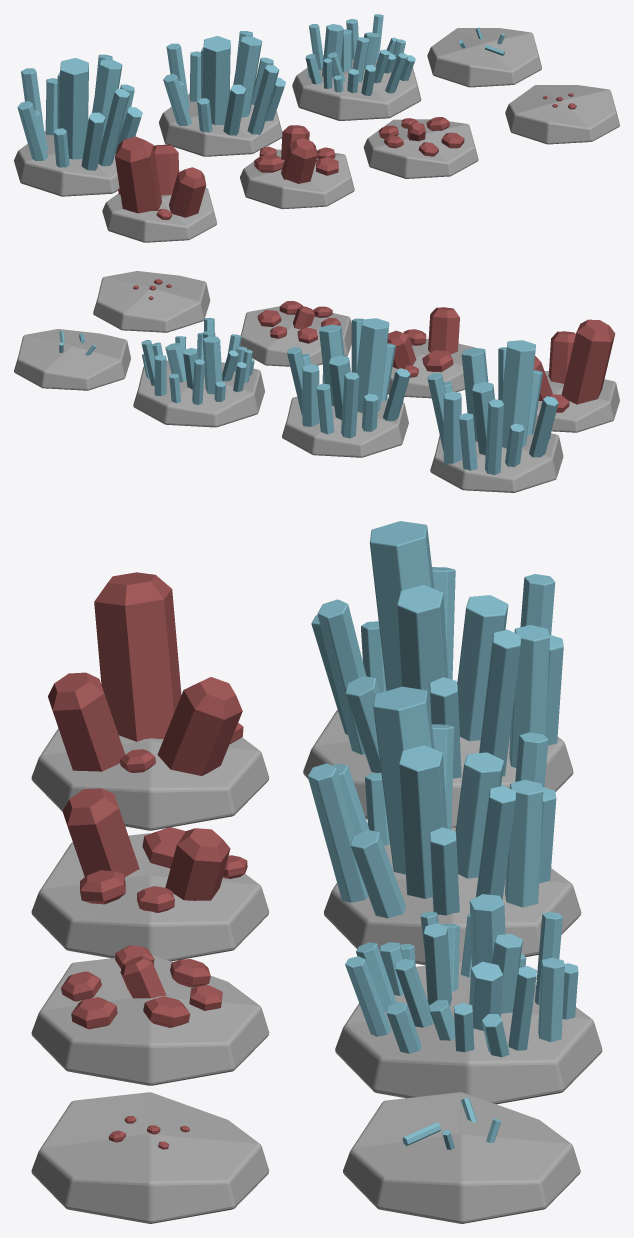
Rendered from Cristaux3.fbx.
The picture shows the model from 3 angles, top to bottom: view 1: azimuth 30°, elevation 25°; view 2: azimuth 150°, elevation 25°; view 3: azimuth 270°, elevation 25°; orthographic projection. The views are drawn at different scales.
Parts seen in each view (by area): view 1: pasted__pCylinder6, pasted__pasted__pCylinder60, polySurface14 (×2), pCylinder54, pasted__pasted__pCylinder61, pCylinder41, pCylinder55, pCylinder56, pCylinder50, pCylinder3, polySurface13 (×2), polySurface10 (×2) (+21 smaller); view 2: pasted__pCylinder6, pasted__pasted__pCylinder60, polySurface14 (×2), pasted__pasted__pCylinder61, pCylinder56, pCylinder55, pCylinder54, pCylinder3, polySurface5 (×2), pCylinder50, polySurface3 (×2), polySurface13 (×2) (+22 smaller); view 3: pasted__pCylinder6, pasted__pasted__pCylinder60, pCylinder54, pasted__pasted__pCylinder61, pCylinder41, pCylinder50, pCylinder3, polySurface14 (×2), polySurface13 (×2), pCylinder55, polySurface12 (×2), polySurface5 (×2) (+31 smaller).
Boxes of the visible parts, bbox=[...] form: pasted__pCylinder6: bbox=[505, 85, 619, 144]; pasted__pasted__pCylinder60: bbox=[427, 28, 541, 87]; polySurface14 (×2): bbox=[59, 36, 230, 159]; pCylinder54: bbox=[363, 119, 478, 178]; pasted__pasted__pCylinder61: bbox=[292, 56, 421, 120]; pCylinder41: bbox=[240, 149, 354, 209]; pCylinder55: bbox=[159, 94, 282, 156]; pCylinder56: bbox=[14, 131, 119, 196]; pCylinder50: bbox=[102, 187, 216, 242]; pCylinder3: bbox=[115, 136, 161, 213]; polySurface13 (×2): bbox=[92, 36, 262, 143]; polySurface10 (×2): bbox=[98, 65, 279, 166]; pasted__pCylinder6: bbox=[93, 271, 210, 332]; pasted__pasted__pCylinder60: bbox=[14, 329, 130, 390]; polySurface14 (×2): bbox=[356, 318, 535, 448]; pasted__pasted__pCylinder61: bbox=[133, 360, 264, 427]; pCylinder56: bbox=[430, 429, 563, 492]; pCylinder55: bbox=[282, 396, 408, 457]; pCylinder54: bbox=[240, 306, 351, 366]; pCylinder3: bbox=[561, 319, 615, 404]; polySurface5 (×2): bbox=[302, 364, 461, 466]; pCylinder50: bbox=[534, 371, 619, 432]; polySurface3 (×2): bbox=[341, 372, 504, 475]; polySurface13 (×2): bbox=[319, 324, 488, 441]; pasted__pCylinder6: bbox=[31, 1092, 269, 1223]; pasted__pasted__pCylinder60: bbox=[343, 1092, 580, 1223]; pCylinder54: bbox=[31, 954, 269, 1085]; pasted__pasted__pCylinder61: bbox=[335, 961, 602, 1104]; pCylinder41: bbox=[31, 833, 269, 961]; pCylinder50: bbox=[31, 728, 269, 830]; pCylinder3: bbox=[94, 572, 181, 741]; polySurface14 (×2): bbox=[369, 521, 434, 874]; polySurface13 (×2): bbox=[397, 584, 448, 898]; pCylinder55: bbox=[324, 827, 581, 965]; polySurface12 (×2): bbox=[455, 595, 508, 878]; polySurface5 (×2): bbox=[505, 625, 549, 907].
Size of the model in its own units: 5.17 by 1.11 by 2.45.
